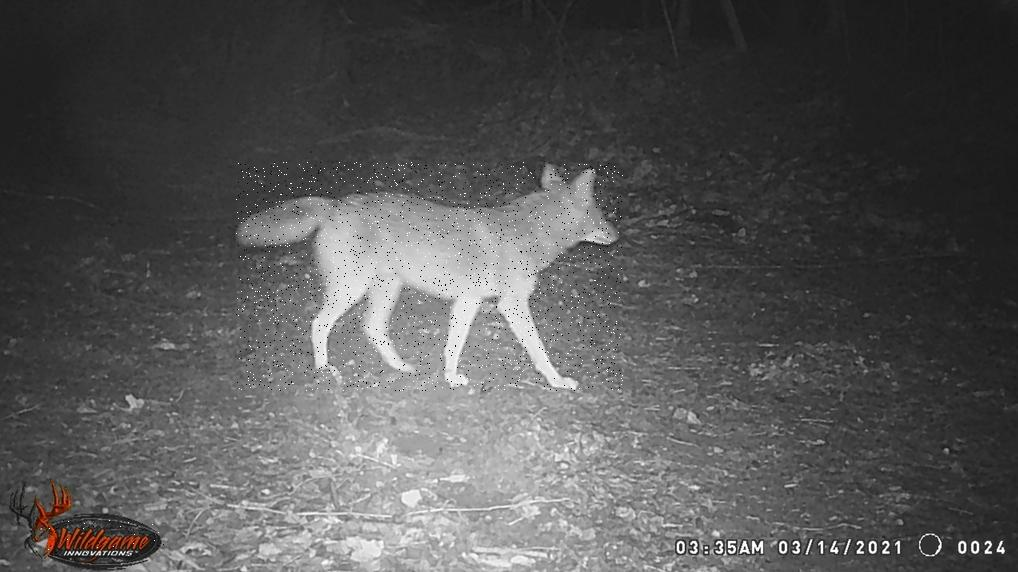Coyote: (236, 163, 623, 392)
Hog: (49, 519, 165, 556)
